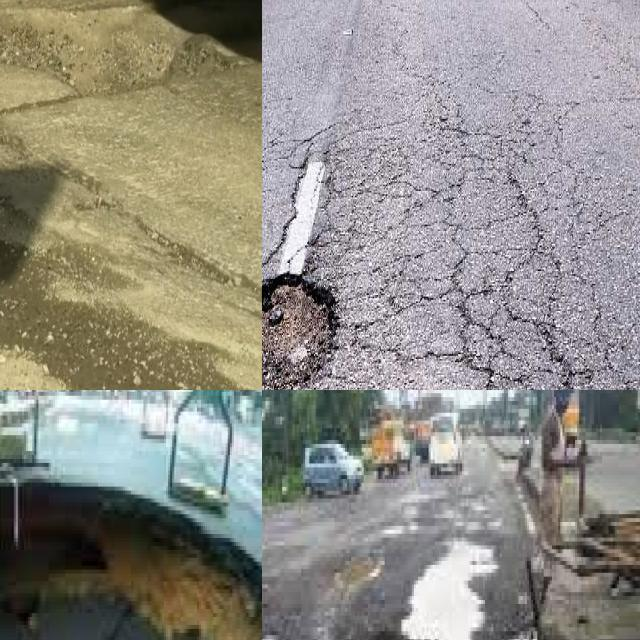Pothole: (0, 487, 262, 640), (1, 2, 205, 95), (0, 5, 190, 95), (399, 545, 491, 640), (262, 276, 337, 390), (334, 557, 383, 592)
